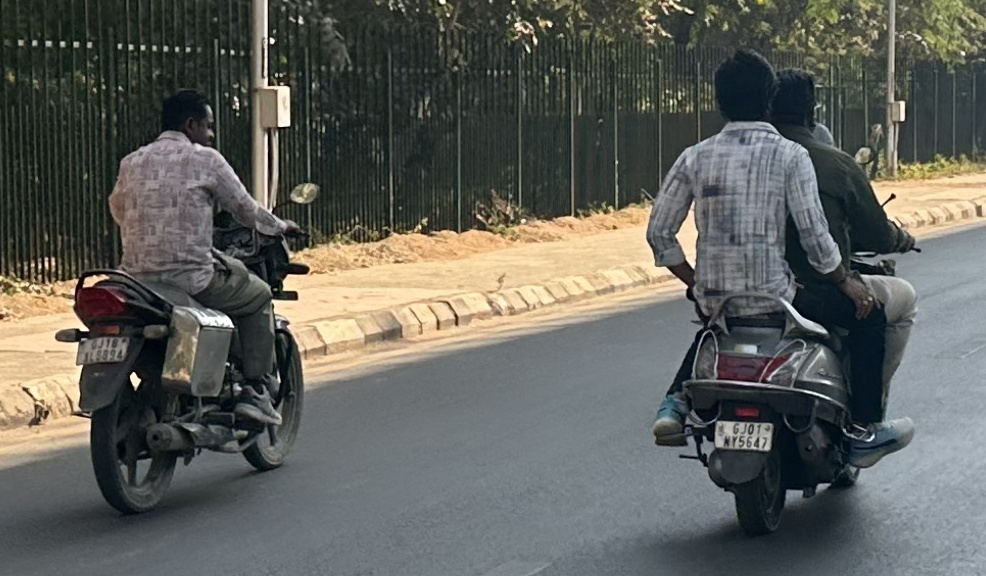BikeWithRider: (637, 39, 930, 544), (45, 81, 326, 525)
NoHelmet: (704, 41, 785, 131), (756, 62, 830, 142), (149, 82, 224, 153)
